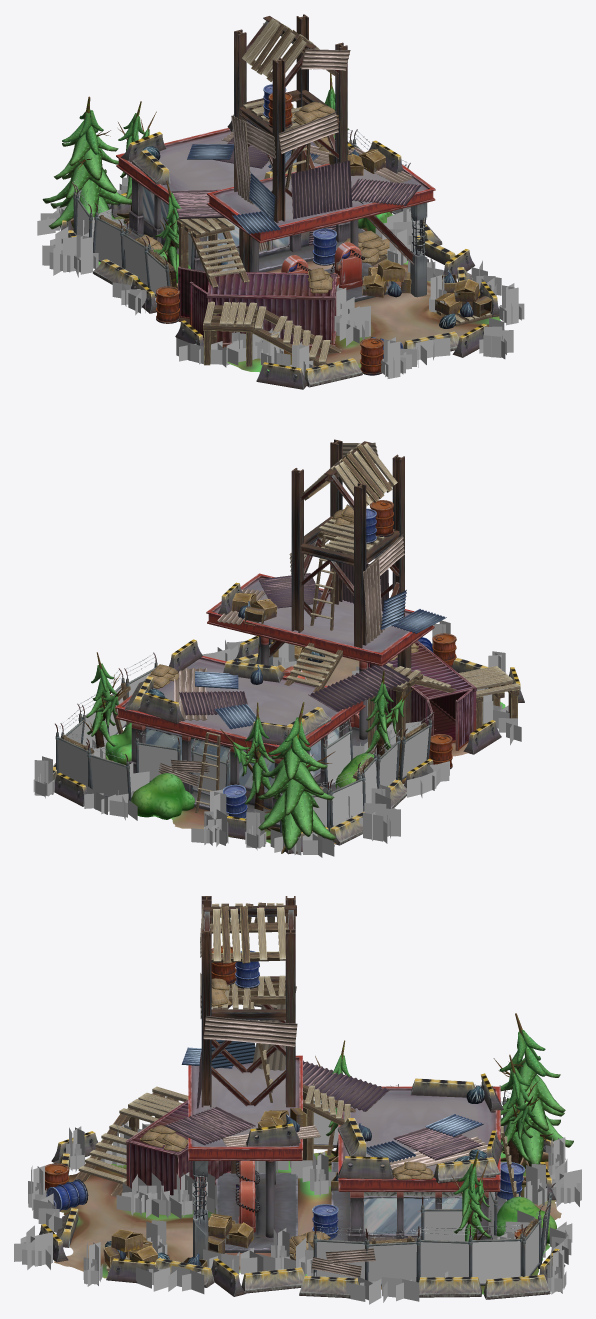
3 views of the same model, one above another, from view 1: azimuth 30°, elevation 25°; view 2: azimuth 150°, elevation 25°; view 3: azimuth 270°, elevation 25° (orthographic). The views are drawn at different scales.
Visible parts, largest first — view 1: ратуша; view 2: ратуша; view 3: ратуша.
Boxes of the visible parts, x1,y1,x2,y2 form: ратуша: (37,14,524,389); ратуша: (33,439,524,857); ратуша: (14,896,581,1304).
Size of the model in its own units: 26.79 by 21.35 by 36.02.
